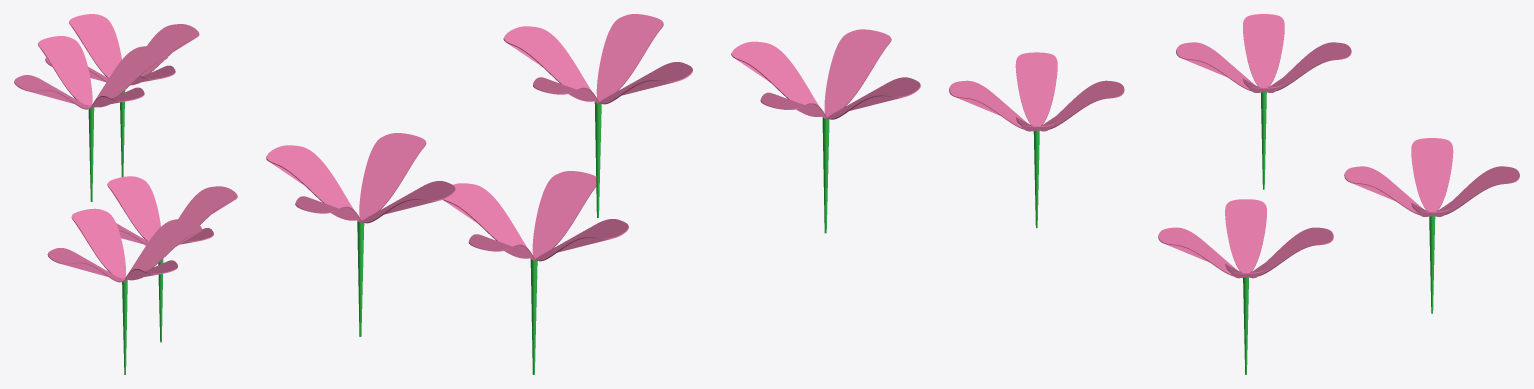
Rendered from Flowers.fbx.
3 renders of one model, left to right at view 1: azimuth 30°, elevation 25°; view 2: azimuth 150°, elevation 25°; view 3: azimuth 270°, elevation 25°, orthographic. The views are drawn at different scales.
Visible parts, largest first — view 1: Circle.003, Circle.002, Circle, Circle.001; view 2: Circle.001, Circle.002, Circle.003, Circle; view 3: Circle.001, Circle.002, Circle, Circle.003.
Part boxes in pixels (box(x1,y1,x2,y2)): Circle.003: box(14, 36, 168, 201); Circle.002: box(47, 208, 201, 374); Circle: box(107, 176, 237, 342); Circle.001: box(45, 14, 199, 176); Circle.001: box(266, 133, 455, 336); Circle.002: box(731, 29, 920, 233); Circle.003: box(503, 14, 692, 217); Circle: box(443, 171, 628, 374); Circle.001: box(1344, 138, 1519, 313); Circle.002: box(949, 52, 1124, 228); Circle: box(1158, 199, 1333, 374); Circle.003: box(1176, 14, 1351, 189).
Bounding box in the file's own units: 466 × 376 × 664.
